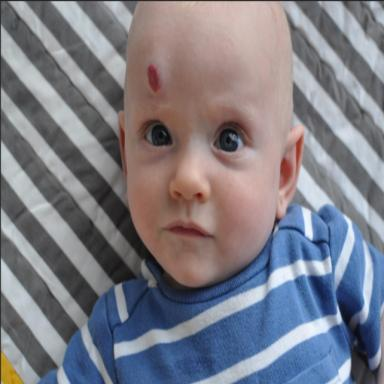Hemangiome: (148, 64, 161, 92)
